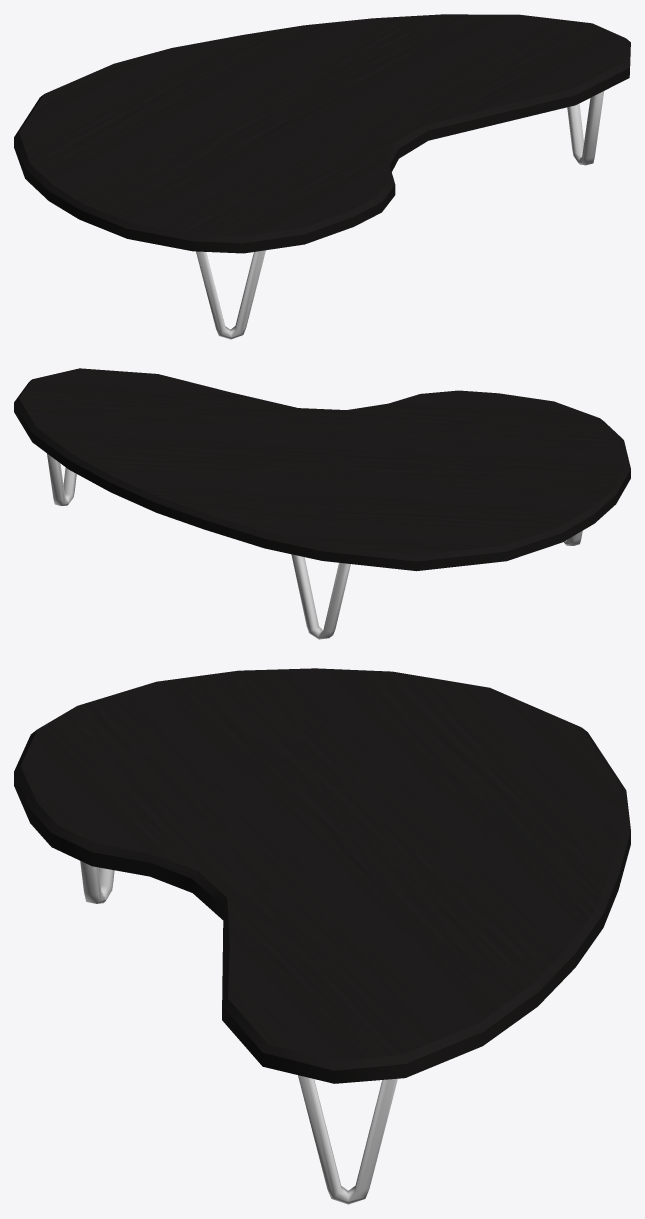
File: Kidney_Table_01.FBX
3 views of the same model, one above another, from view 1: azimuth 30°, elevation 25°; view 2: azimuth 150°, elevation 25°; view 3: azimuth 270°, elevation 25° (orthographic). The views are drawn at different scales.
Parts seen in each view (by area): view 1: Kidney_Bean_Table; view 2: Kidney_Bean_Table; view 3: Kidney_Bean_Table.
Boxes of the visible parts, x1=… form: Kidney_Bean_Table: x1=14, y1=14, x2=630, y2=339; Kidney_Bean_Table: x1=14, y1=368, x2=630, y2=639; Kidney_Bean_Table: x1=14, y1=668, x2=630, y2=1204.
Bounding box in the file's own units: 396 × 76.96 × 259.
